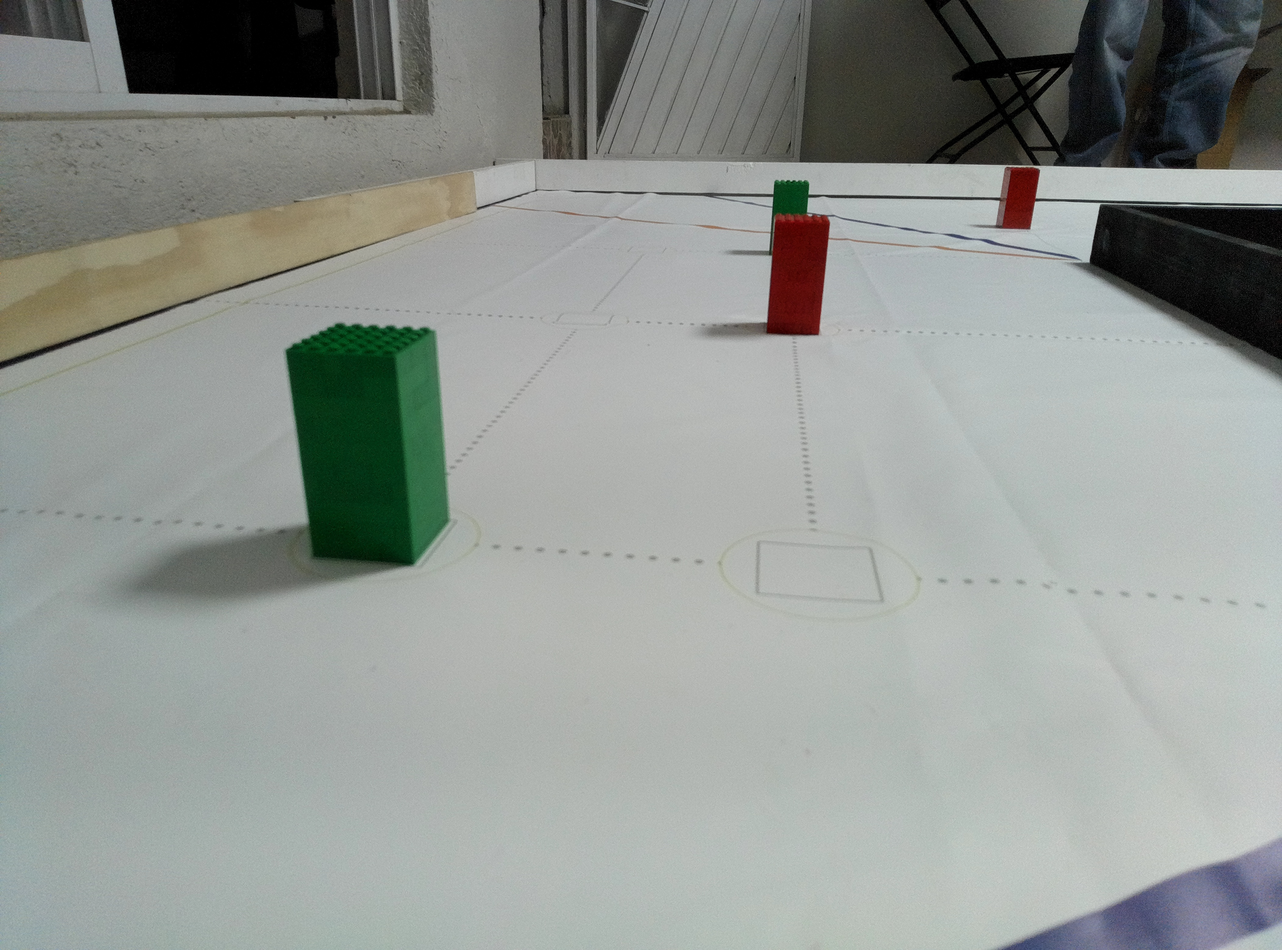greenbox: (284, 323, 454, 574), (773, 178, 809, 216), (767, 215, 774, 256)
redbox: (764, 215, 834, 337), (993, 167, 1042, 231)
